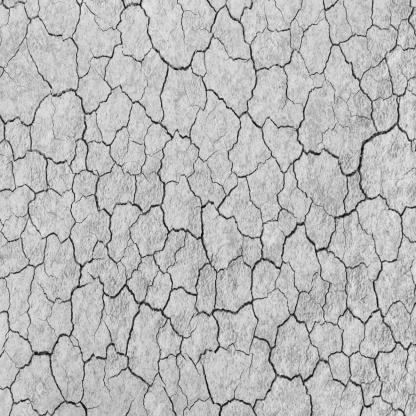network cracks: (0, 0, 415, 415)
